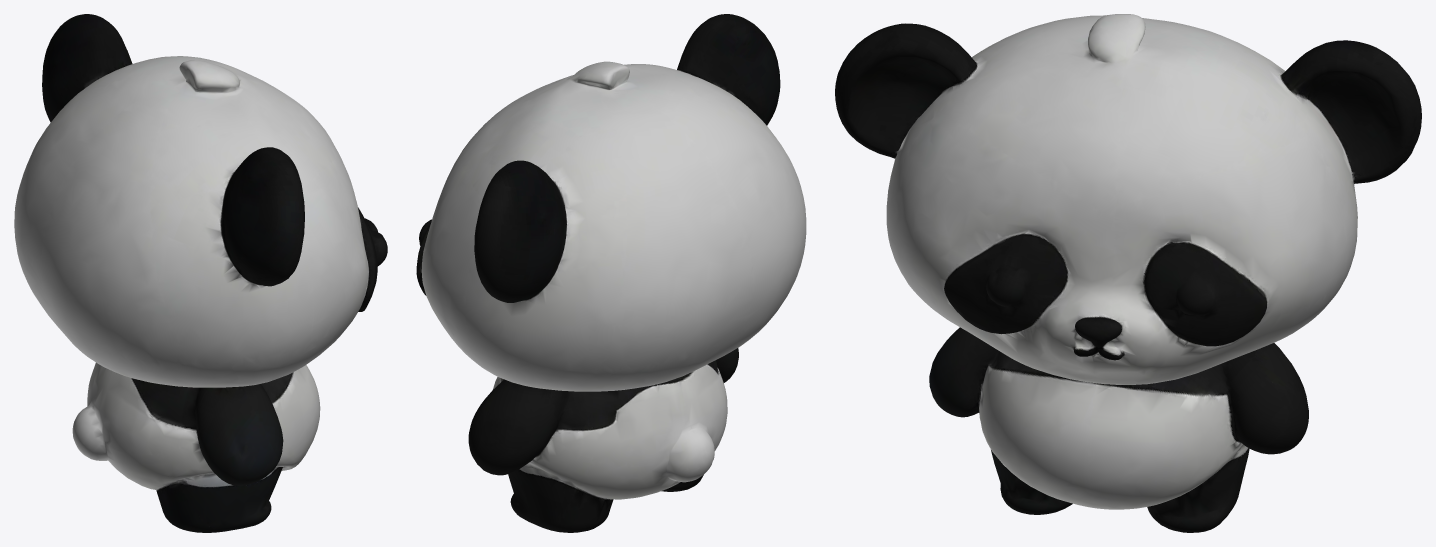
The model's file is panda.glb.
The picture shows the model from 3 angles, left to right: view 1: azimuth 30°, elevation 25°; view 2: azimuth 150°, elevation 25°; view 3: azimuth 270°, elevation 25°; orthographic projection. The views are drawn at different scales.
Visible parts, largest first — view 1: tripo_node_18c01f47-1d4a-4b82-a840-2ab0decbe98d; view 2: tripo_node_18c01f47-1d4a-4b82-a840-2ab0decbe98d; view 3: tripo_node_18c01f47-1d4a-4b82-a840-2ab0decbe98d.
Boxes of the visible parts, x1,y1,x2,y2 form: tripo_node_18c01f47-1d4a-4b82-a840-2ab0decbe98d: [14, 14, 387, 532]; tripo_node_18c01f47-1d4a-4b82-a840-2ab0decbe98d: [416, 14, 806, 532]; tripo_node_18c01f47-1d4a-4b82-a840-2ab0decbe98d: [835, 14, 1421, 532].
Bounding box in the file's own units: 0.7168 × 0.914 × 0.9999.
1 material, 1 textured.
